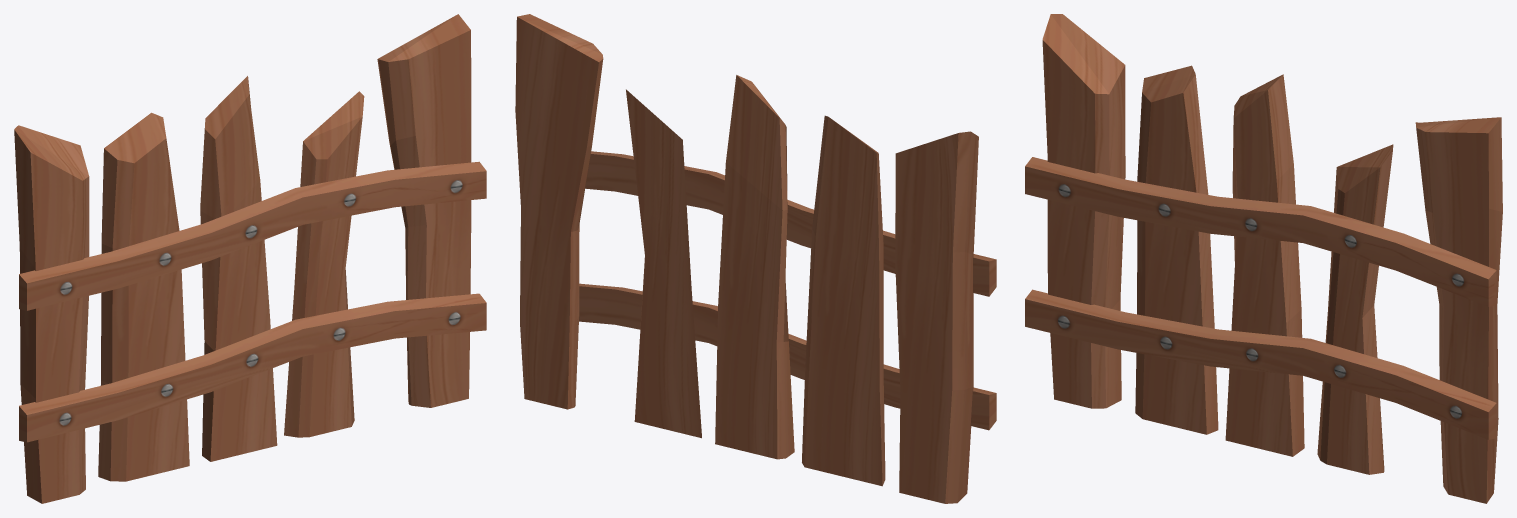
File: Fence_03.fbx
The picture shows the model from 3 angles, left to right: view 1: azimuth 30°, elevation 25°; view 2: azimuth 150°, elevation 25°; view 3: azimuth 330°, elevation 25°; orthographic projection.
Visible parts, largest first — view 1: Fence_03; view 2: Fence_03; view 3: Fence_03.
Boxes of the visible parts, x1,y1,x2,y2 form: Fence_03: (14,14,486,503); Fence_03: (515,14,996,503); Fence_03: (1025,14,1502,503).
Size of the model in its own units: 69.16 by 53.79 by 5.97.
